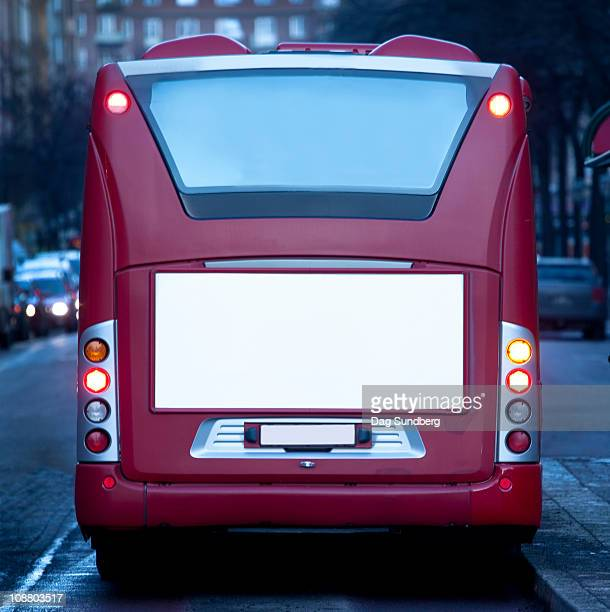bus: (72, 30, 546, 545)
